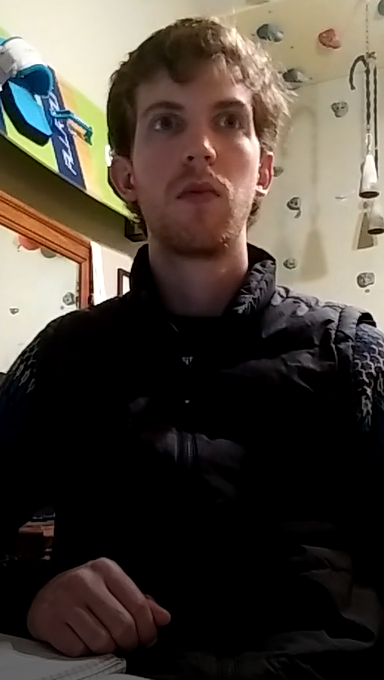Not Sleeping: (130, 99, 264, 147)
